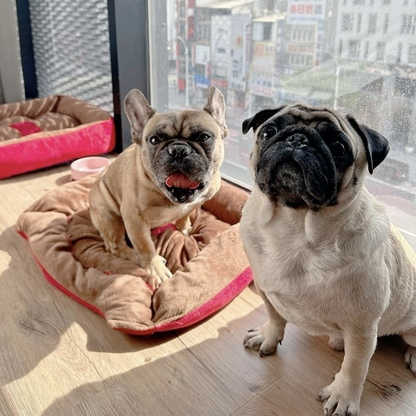Pug: (239, 98, 416, 416)
bulldog: (81, 76, 232, 291)
